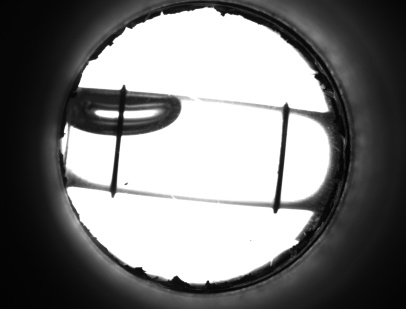line: (271, 121, 292, 194), (107, 141, 124, 181)
